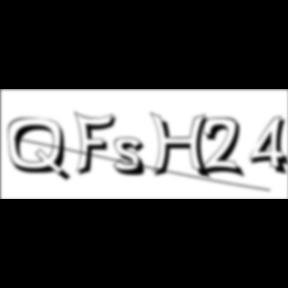2: (199, 117, 249, 181)
F: (74, 110, 122, 178)
H: (150, 112, 216, 182)
Q: (8, 117, 74, 184)
s: (114, 137, 153, 179)
